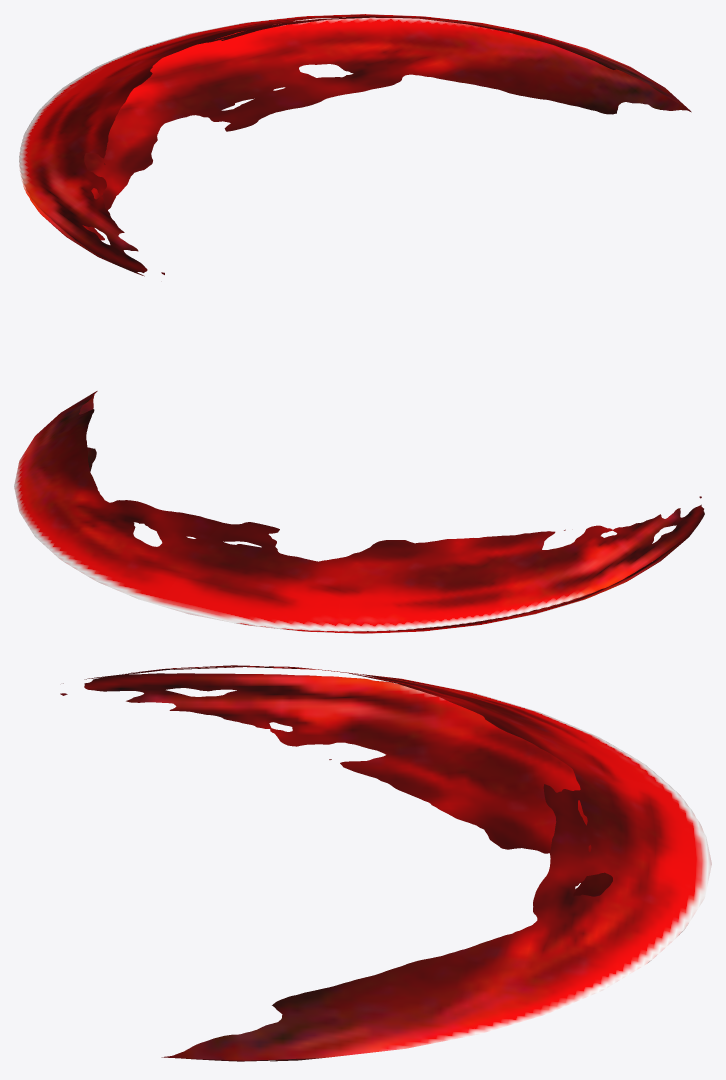
Rendered from Slash_C001.FBX.
3 views of the same model, one above another, from view 1: azimuth 30°, elevation 25°; view 2: azimuth 150°, elevation 25°; view 3: azimuth 270°, elevation 25° (orthographic). The views are drawn at different scales.
Parts seen in each view (by area): view 1: Slash_C001; view 2: Slash_C001; view 3: Slash_C001.
Boxes of the visible parts, x1,y1,x2,y2 form: Slash_C001: [19, 14, 691, 276]; Slash_C001: [14, 391, 704, 633]; Slash_C001: [60, 665, 711, 1061].
Size of the model in its own units: 398 by 299 by 70.51.
